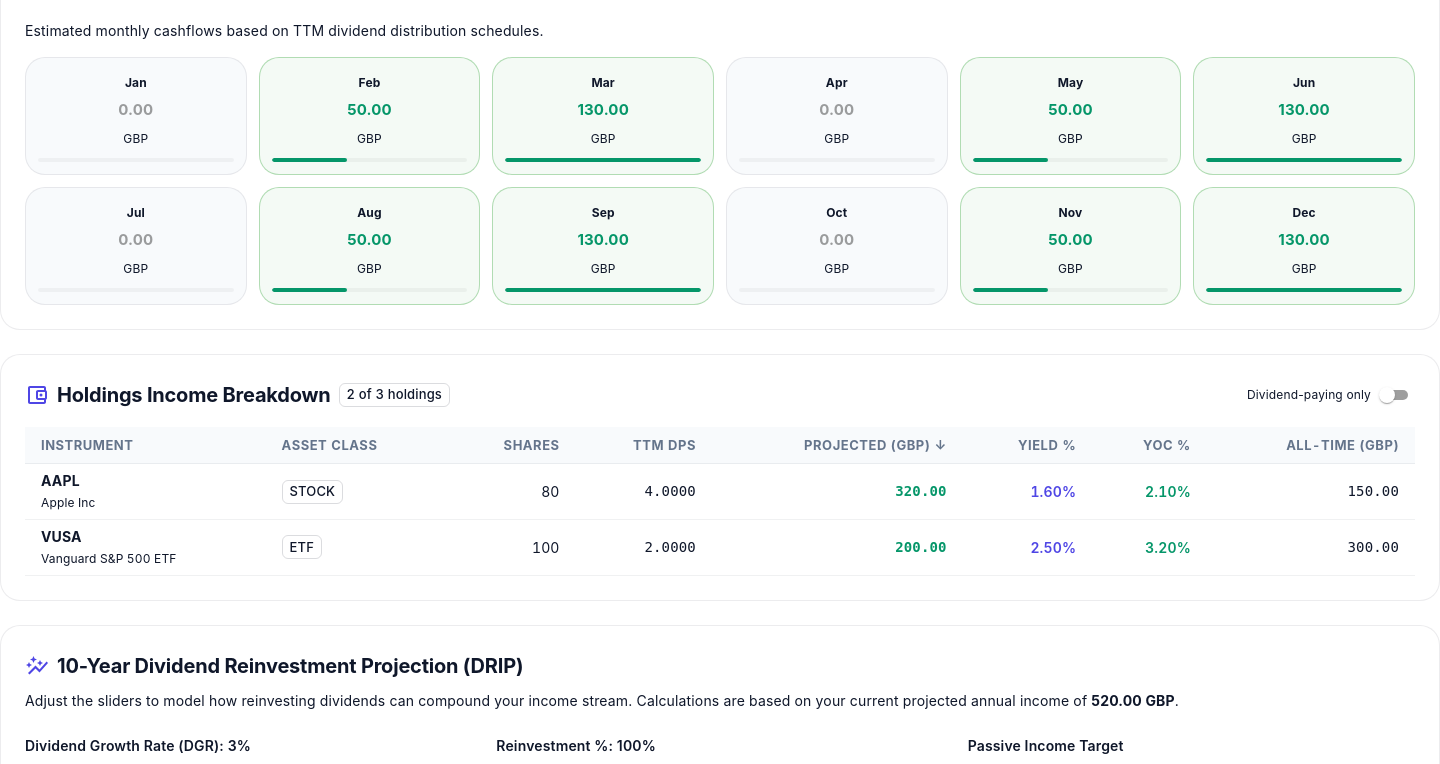
Test: DividendDetailPage › holdings filter toggle defaults to dividend-paying only and reveals all when toggled
(page scrolled)
Expected: the heading "Holdings Income Breakdown" is shown, x1=57 y1=379 x2=330 y2=411
Expected: the text "NODIV" is not shown
// Toggle switch on → all holdings shown
Step 1. Click the switch with id "switch-show-all-holdings" → (1387, 395), box x1=1379 y1=387 x2=1395 y2=403
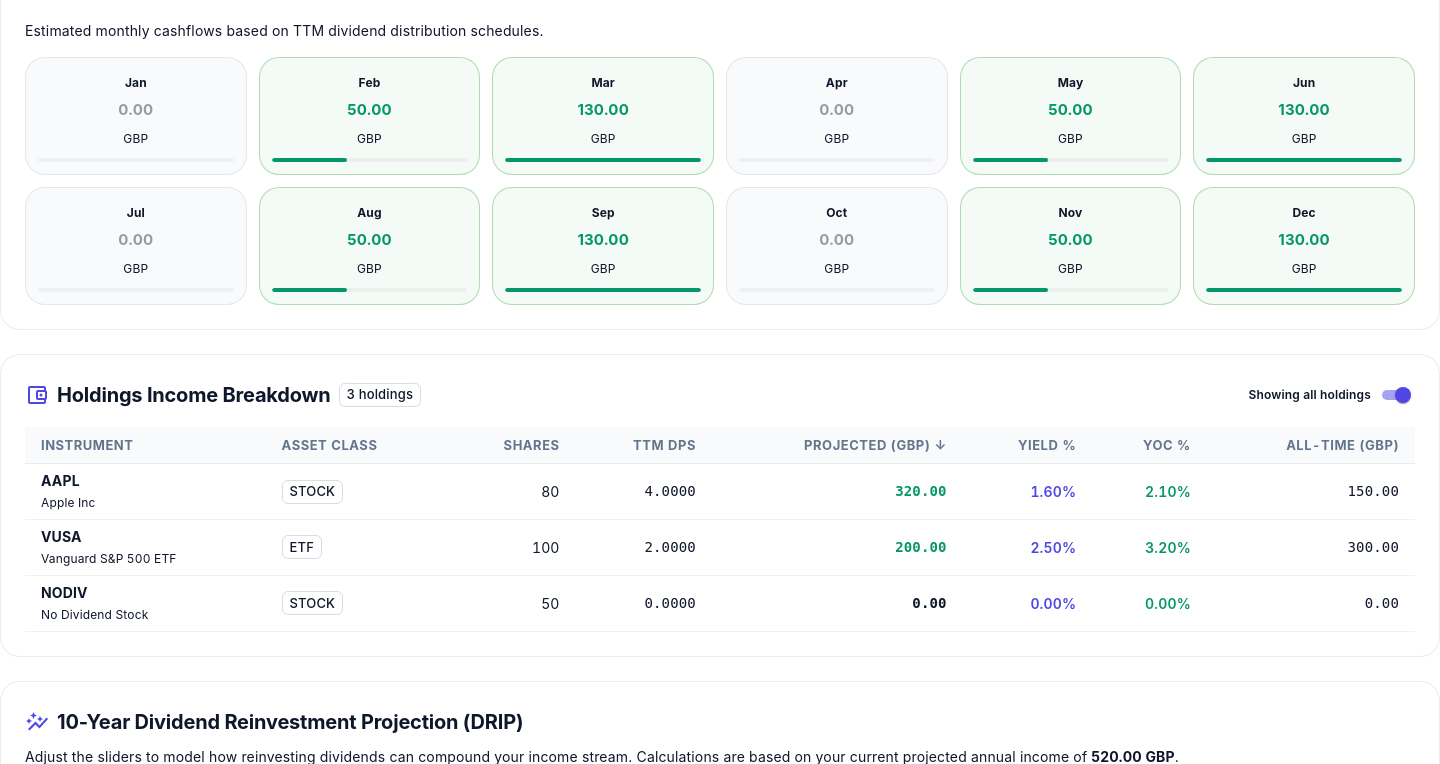
Expected: the text "NODIV" is shown, x1=41 y1=584 x2=88 y2=601
Expected: the text "Showing all holdings" is shown, x1=1249 y1=385 x2=1371 y2=405
